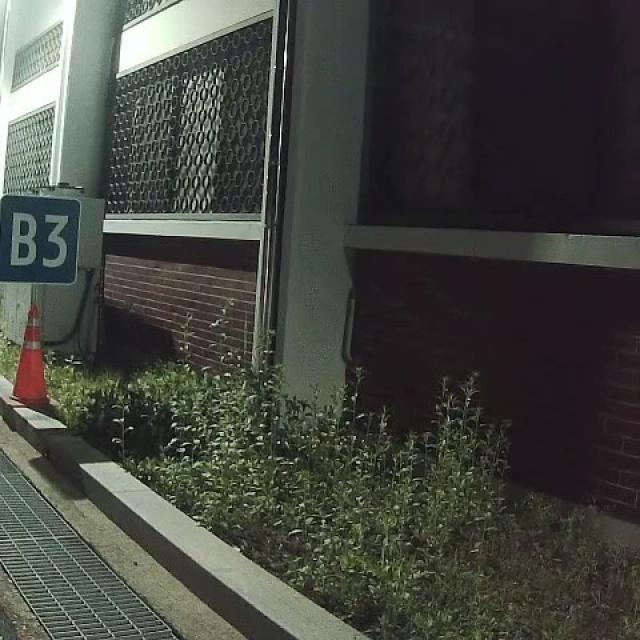b3: (0, 191, 84, 287)
